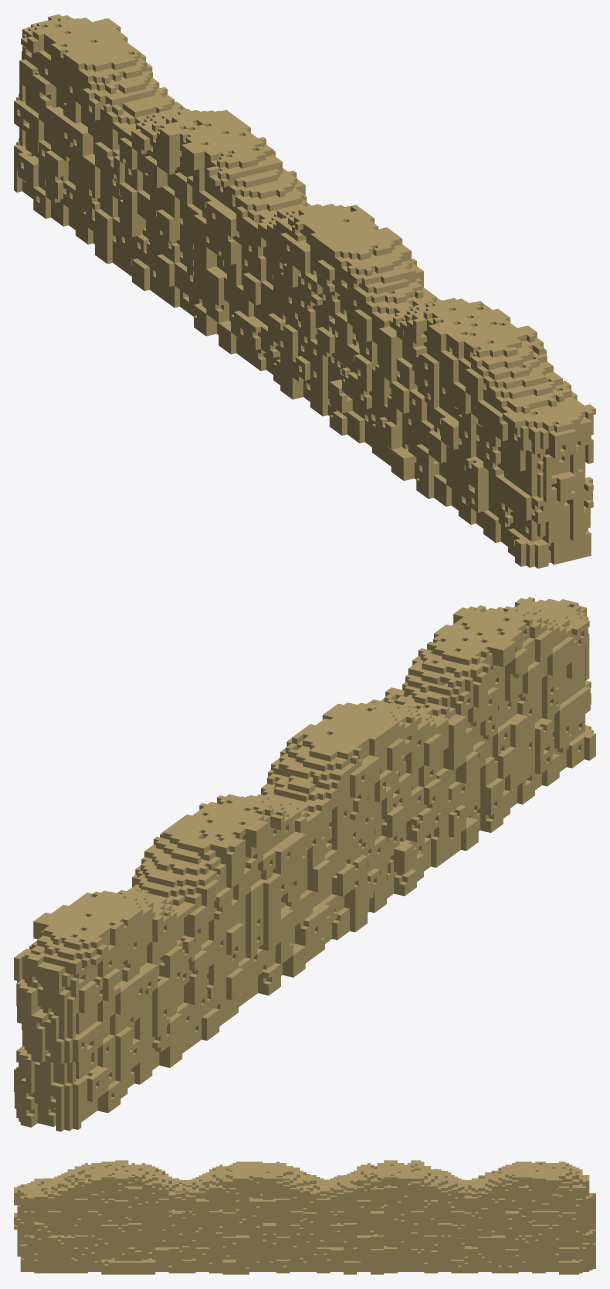
Rendered from fence_dunes_0.obj.
3 renders of one model, top to bottom at view 1: azimuth 30°, elevation 25°; view 2: azimuth 150°, elevation 25°; view 3: azimuth 270°, elevation 25°, orthographic. The views are drawn at different scales.
Size of the model in its own units: 0.35 by 0.775 by 4.32.
1 material, 1 textured.
